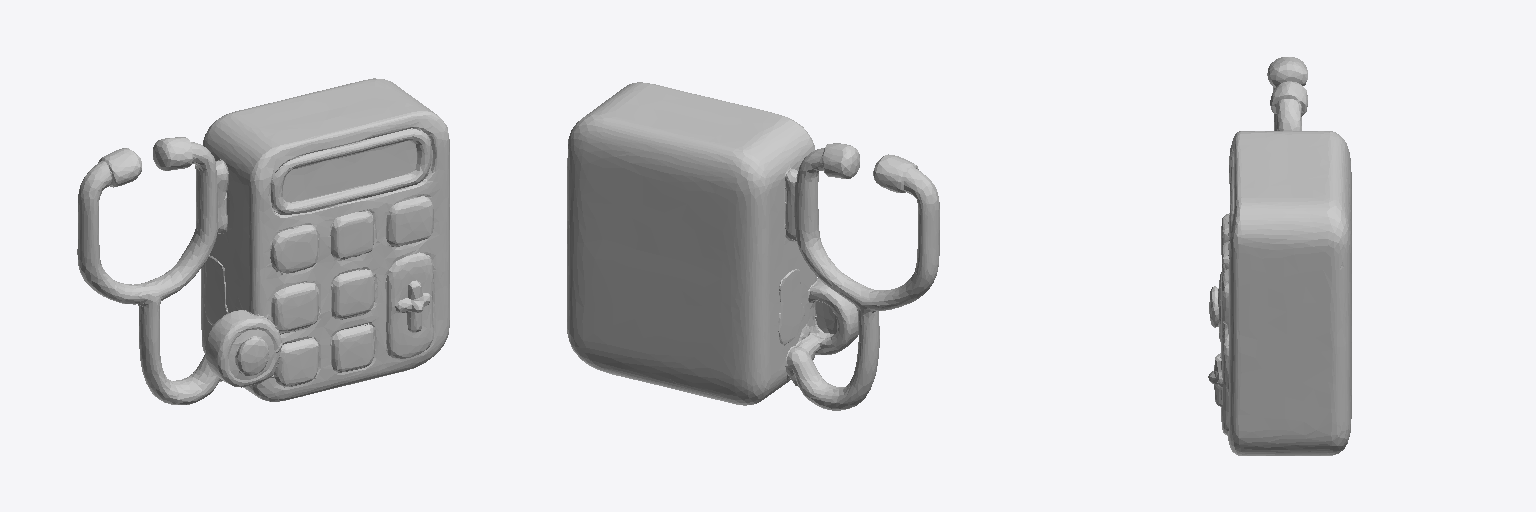
Rendered from Health_Calculator_0815105642_texture.obj.
3 renders of one model, left to right at view 1: azimuth 30°, elevation 25°; view 2: azimuth 150°, elevation 25°; view 3: azimuth 270°, elevation 25°, orthographic.
Visible parts, largest first — view 1: model; view 2: model; view 3: model.
Boxes of the visible parts, <box> form: model: <box>77,78,449,404</box>; model: <box>567,82,939,410</box>; model: <box>1208,57,1351,455</box>.
Size of the model in its own units: 1.99 by 1.47 by 0.7164.